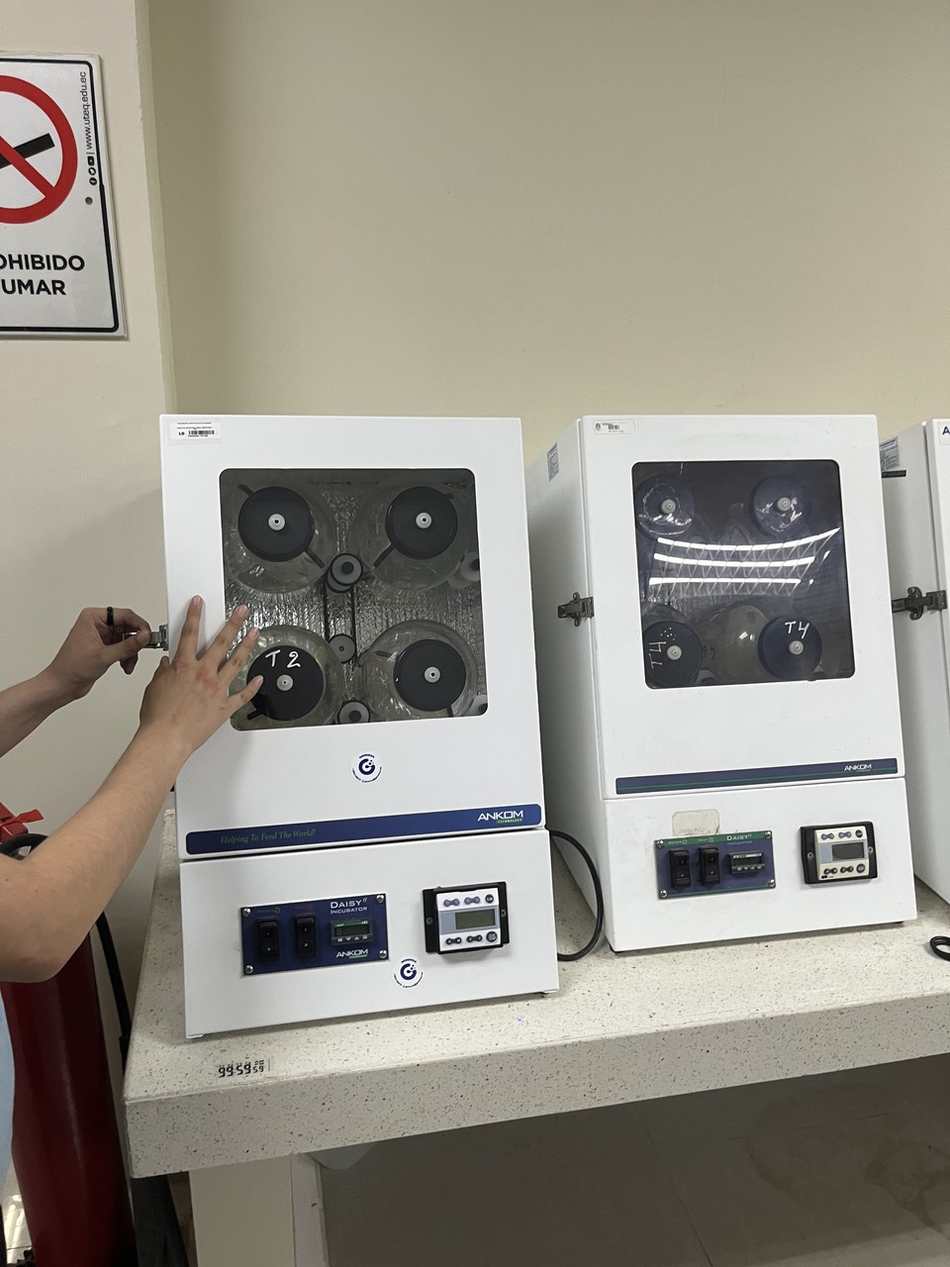ankom_daisy_incubator: (125, 326, 582, 1051)
